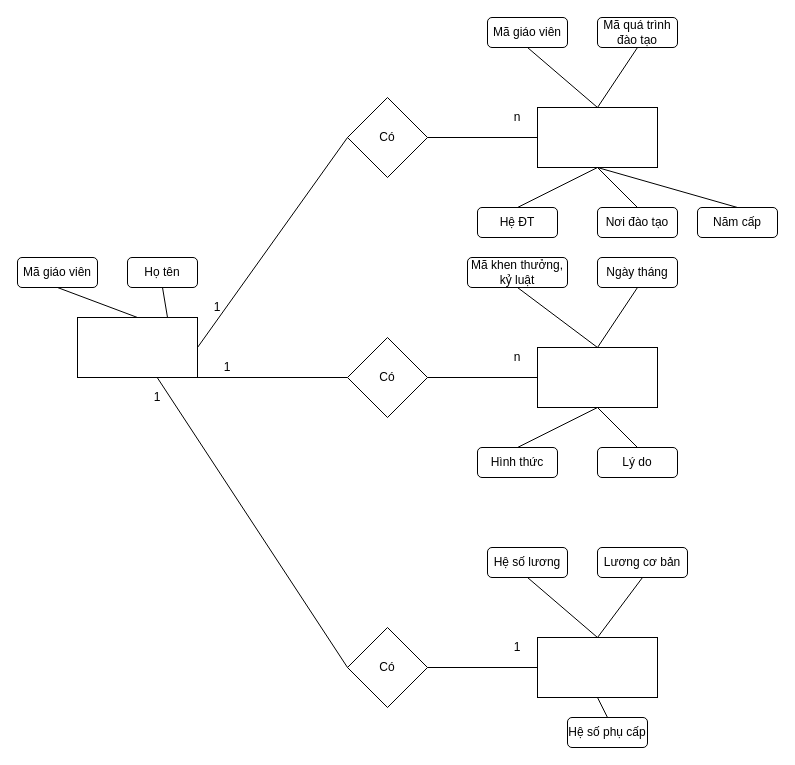
Some shapes in this 795 by 765 pixel diagram are drawn without their labels. Each missing label, with the centre of its shape:
Giáo viên: (137,347)
Khen thưởng kỷ luật: (597,377)
Lương: (597,667)
Quá trình đào tạo: (597,137)
